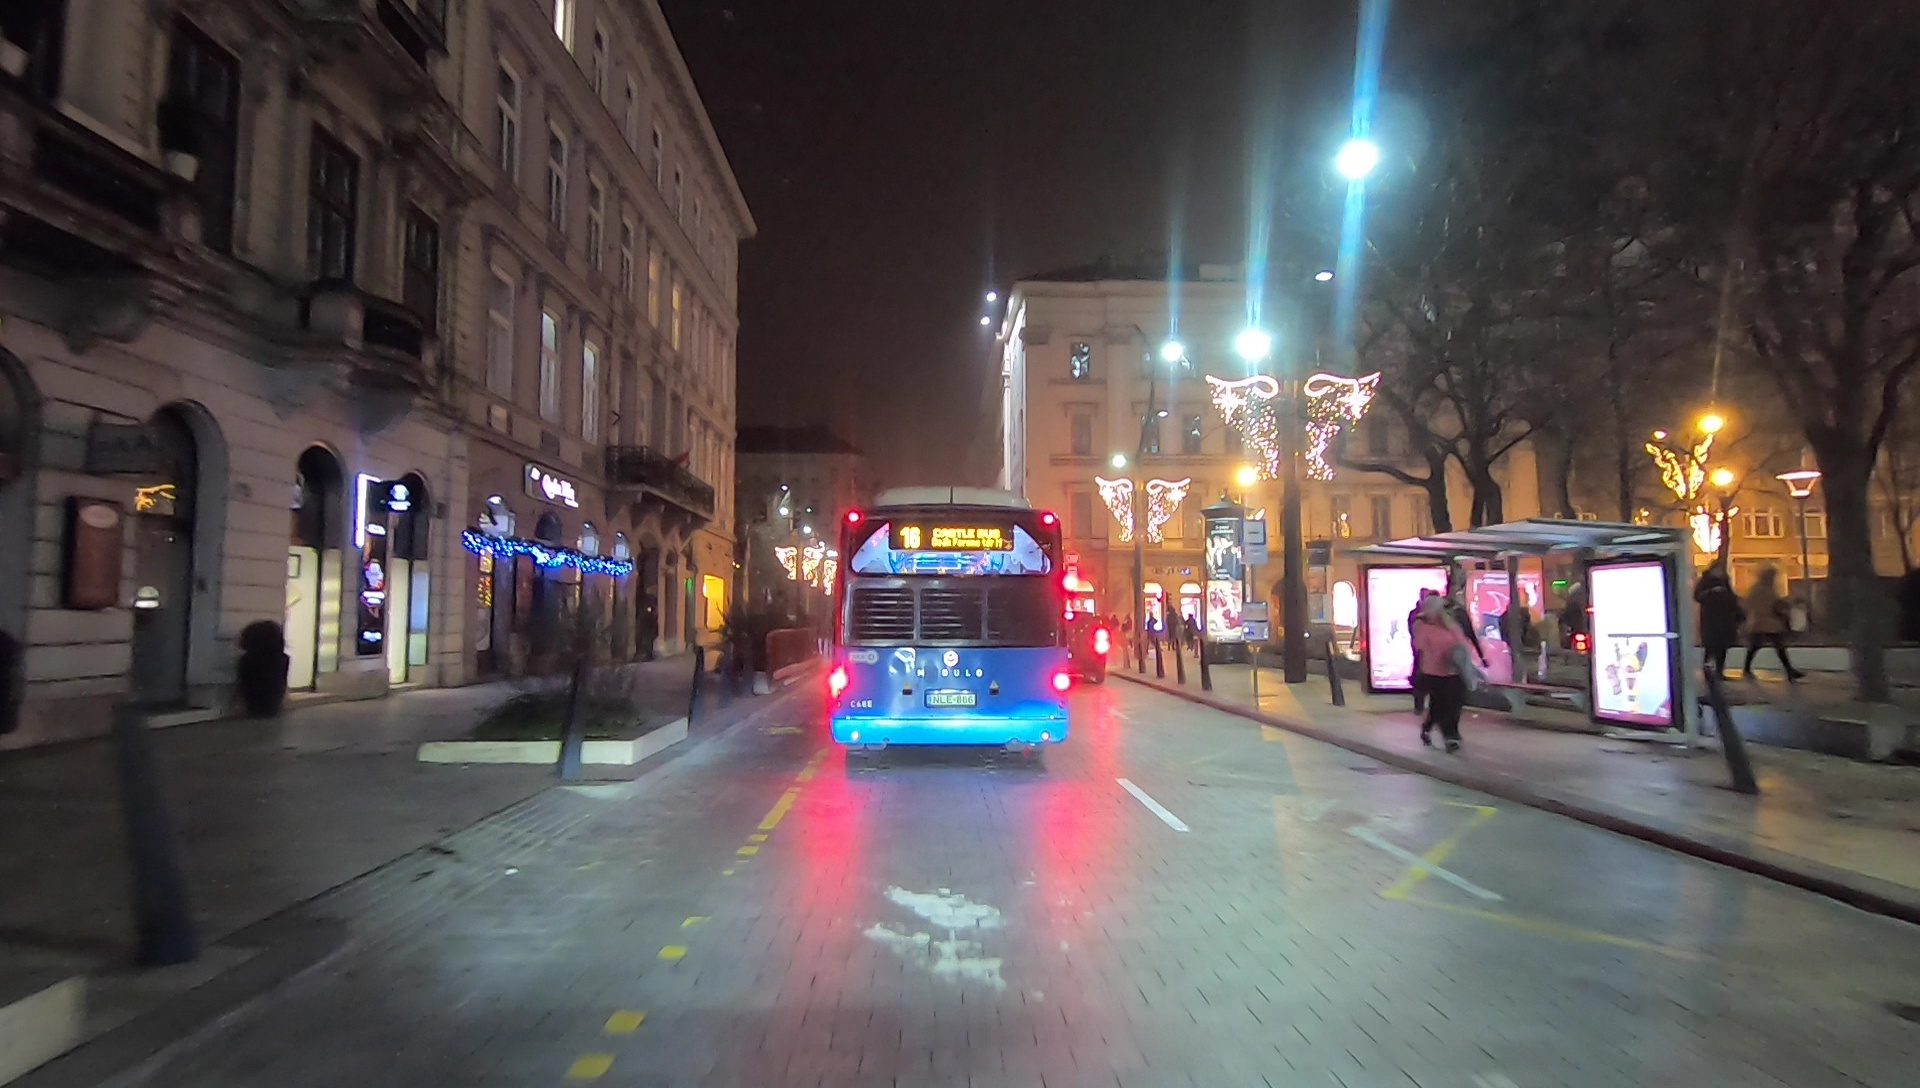person: (1412, 598, 1471, 749), (1744, 552, 1810, 679), (1696, 556, 1743, 681)
